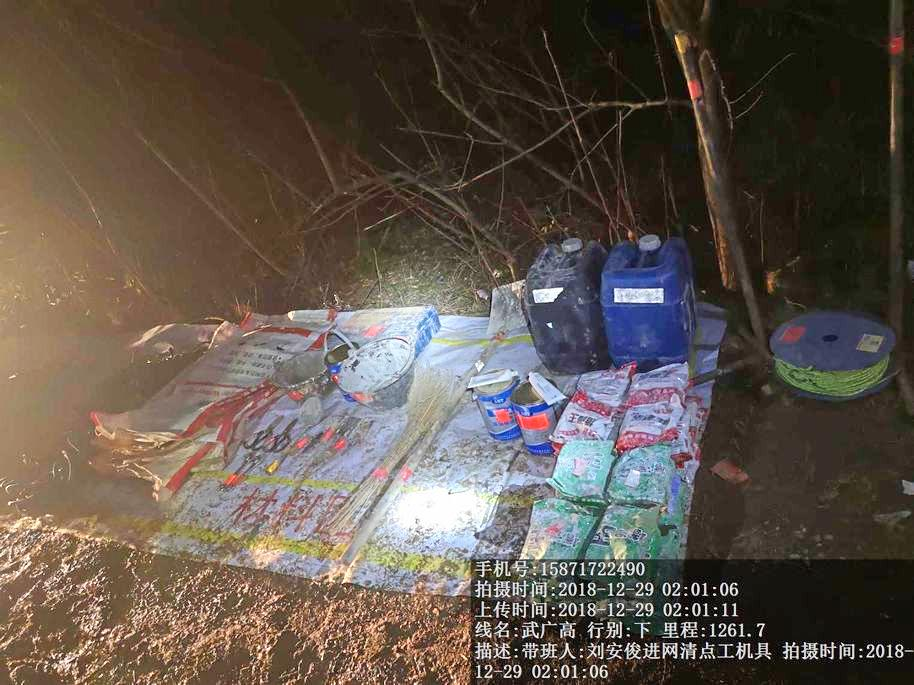BZD: (93, 322, 274, 486)
SB: (335, 374, 455, 535)
SLT: (597, 223, 703, 362), (516, 233, 607, 372)
SNT: (342, 340, 414, 404), (270, 353, 338, 395)
